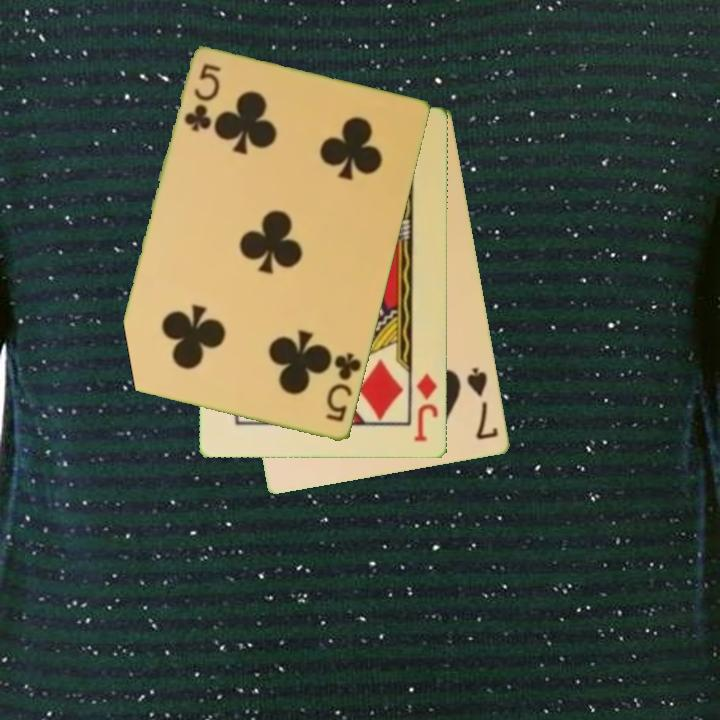5c: (181, 60, 225, 135), (322, 349, 364, 425)
7s: (464, 364, 501, 443)
Jd: (411, 370, 442, 445)
